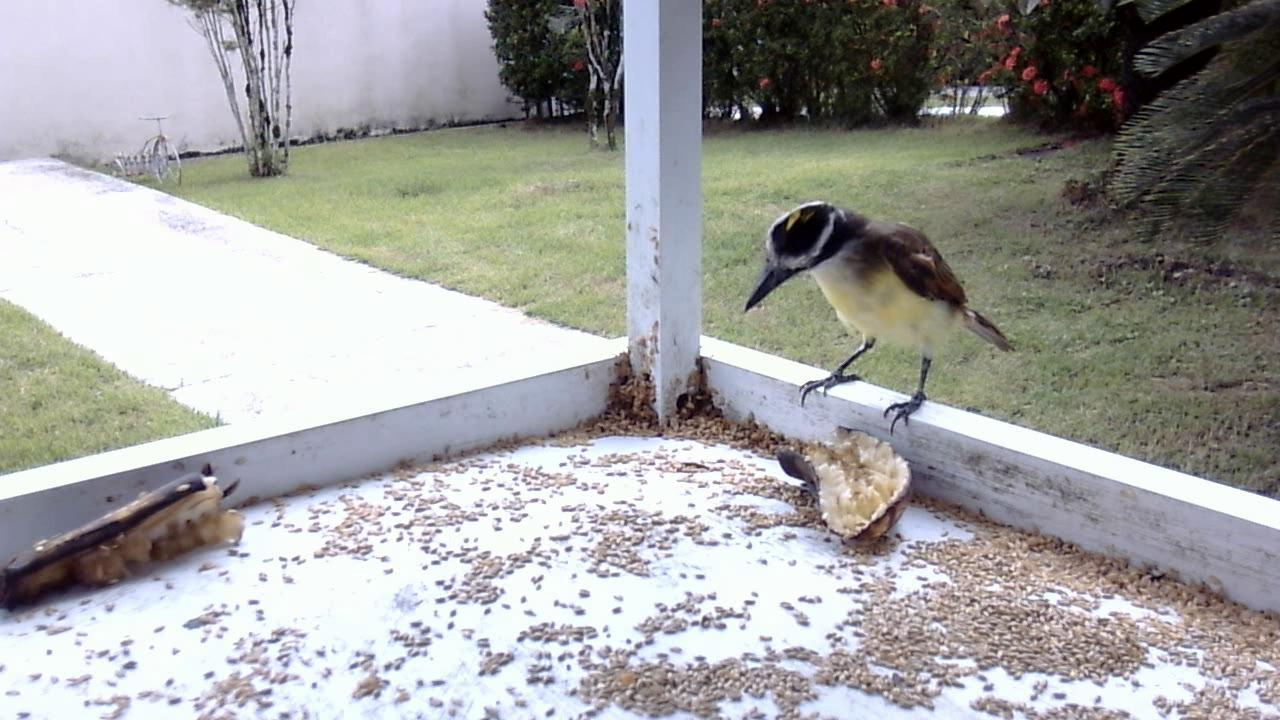bem_te_vi: (736, 190, 1018, 447)
